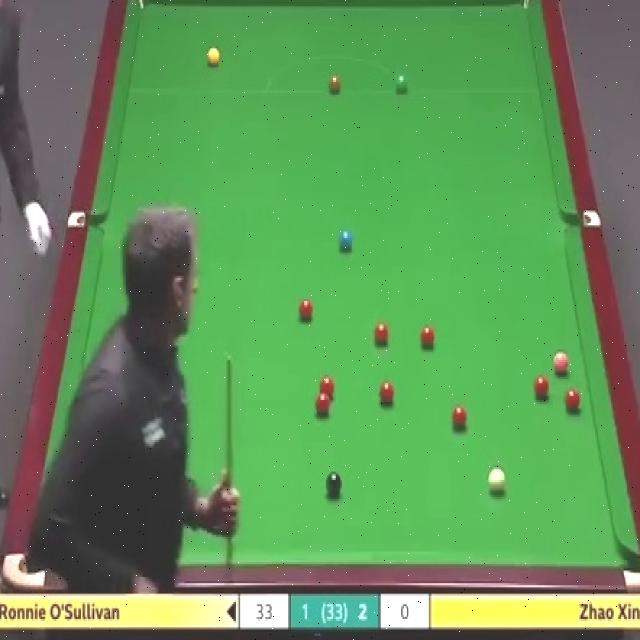black-ball: (326, 472, 342, 497)
blue-ball: (339, 227, 353, 254)
brown-ball: (327, 74, 343, 94)
green-ball: (394, 72, 409, 95)
pink-ball: (552, 352, 571, 373)
red-ball: (314, 392, 331, 418), (378, 380, 394, 407), (420, 324, 436, 350), (451, 406, 468, 430), (318, 375, 335, 398), (565, 387, 581, 411), (532, 375, 550, 396), (374, 322, 389, 347), (298, 297, 313, 321)
white-ball: (488, 466, 507, 495)
yellow-ball: (208, 48, 220, 68)
